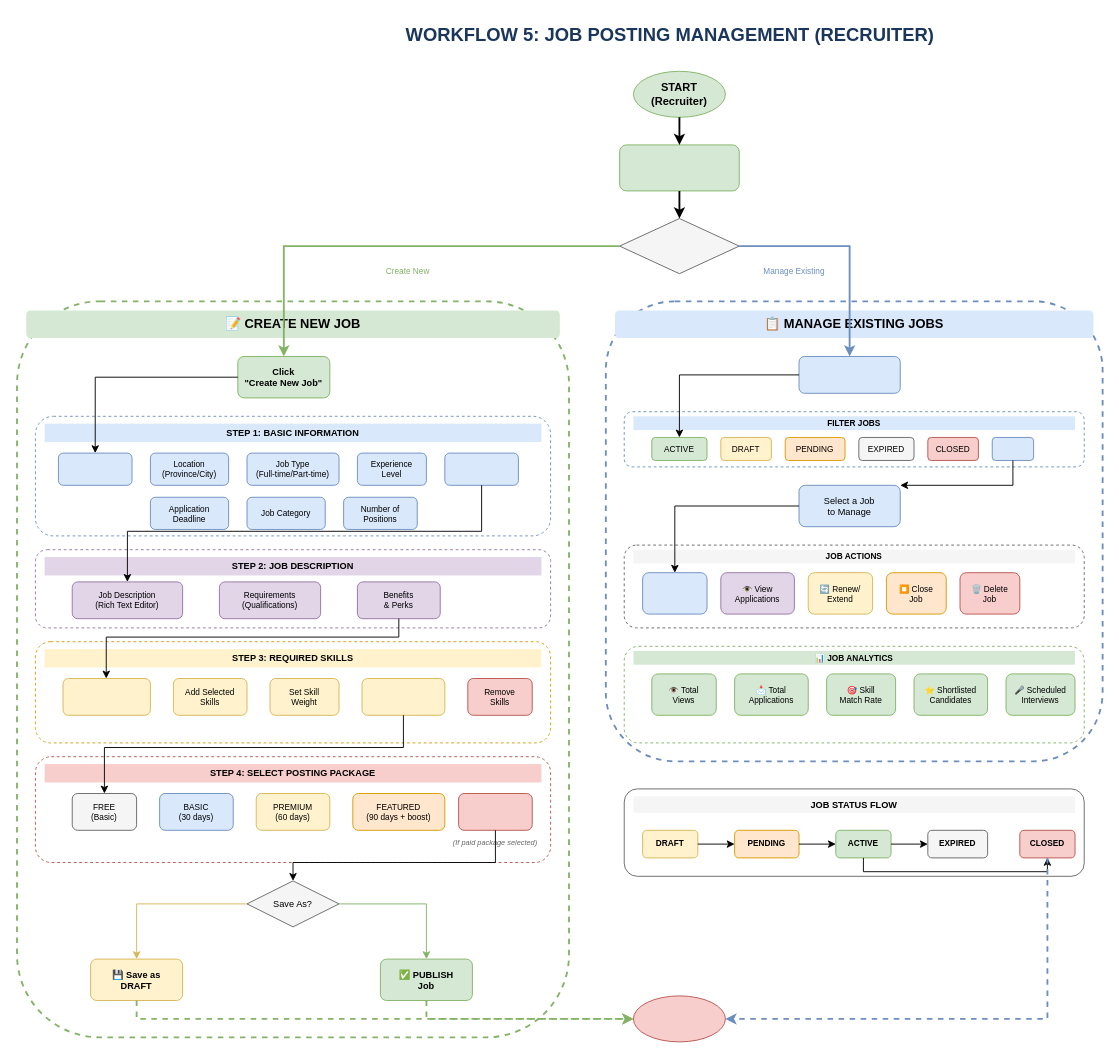
The diagram is 1119 pixels wide and 1058 high, and some of its shapes have lost their labels. The centre of each missing label's shape, as x and y in pixels:
"ALL" goes at pixel 1012 448.
"END" goes at pixel 678 1018.
"Job Title" goes at pixel 95 468.
"Navigate to Job Management" goes at pixel 679 167.
"Salary Range" goes at pixel 481 468.
"Search Skills from Database" goes at pixel 106 696.
"Select Action" goes at pixel 679 246.
"Set Proficiency Level" goes at pixel 403 696.
"View Job Listings" goes at pixel 849 374.
"✏️ Edit Details" goes at pixel 674 593.
"💳 Process Payment" goes at pixel 495 811.
